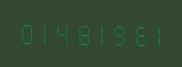eight: (71, 19, 88, 46)
four: (53, 19, 70, 46)
nine: (107, 20, 124, 47)
one: (89, 19, 106, 47), (143, 20, 160, 48), (35, 19, 52, 46)
six: (125, 20, 142, 47)
zero: (17, 18, 34, 46)
